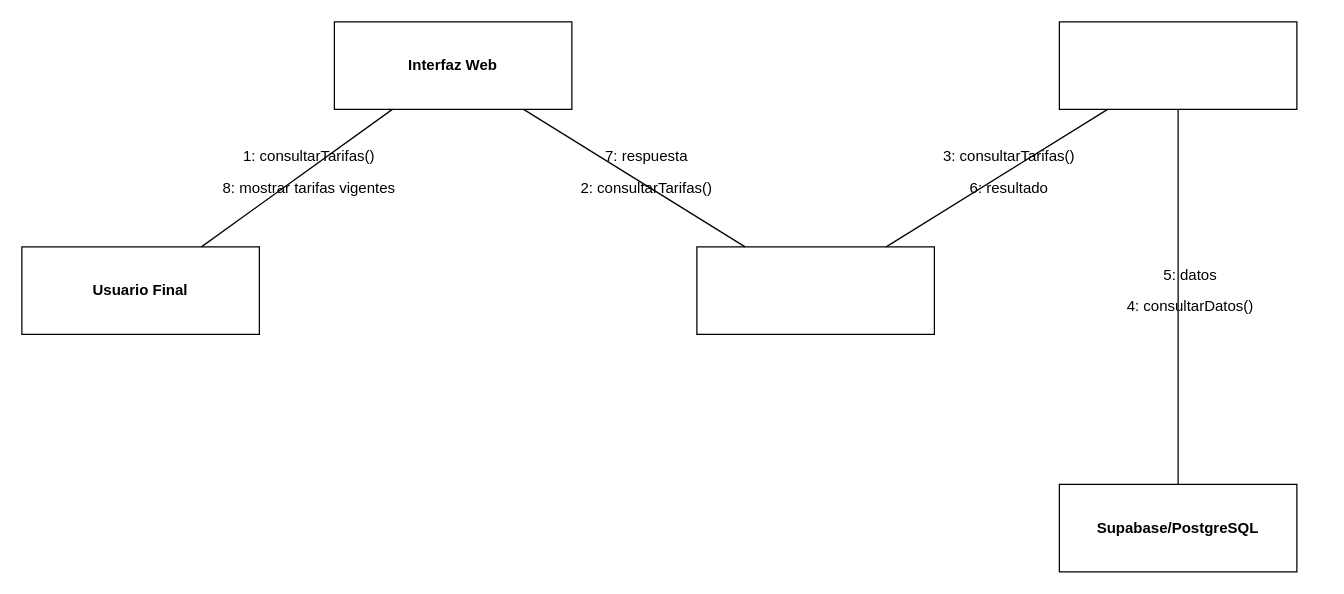
The diagram is 1344 pixels wide and 594 high, and some of its shapes have lost their labels. Here are the shapes that lost their labels. From the top down, the box of each, then its label:
(1058, 21, 1297, 109): Tarifa
(696, 246, 934, 334): TarifaController
